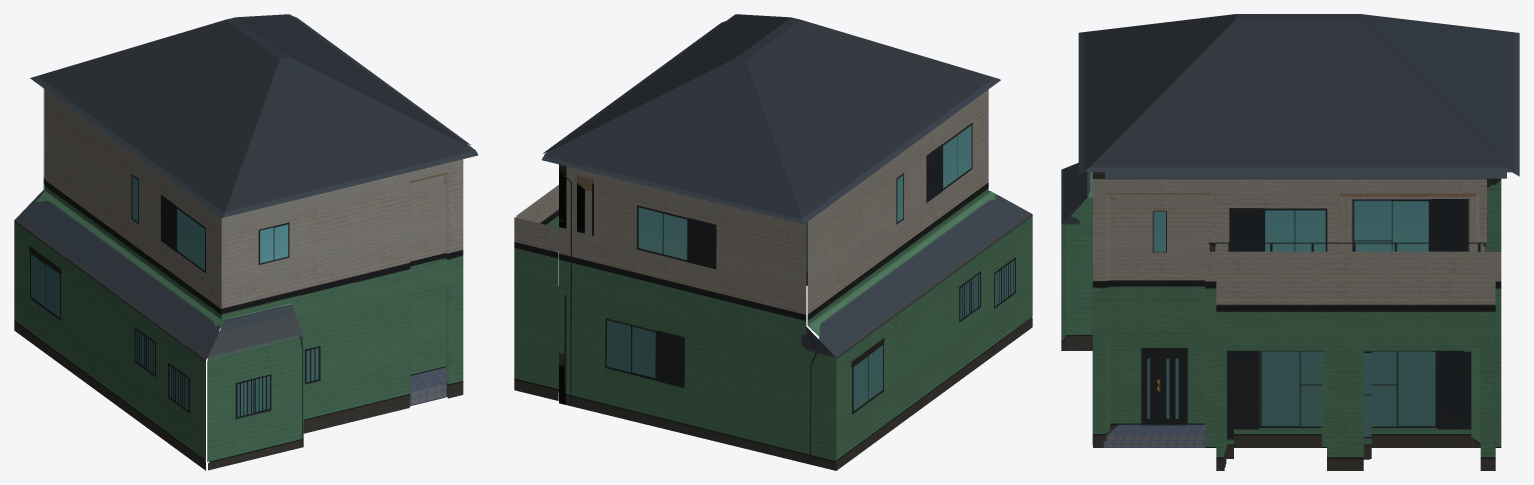
File: House_009_low.fbx
3 renders of one model, left to right at view 1: azimuth 30°, elevation 25°; view 2: azimuth 150°, elevation 25°; view 3: azimuth 270°, elevation 25°, orthographic. The views are drawn at different scales.
Parts seen in each view (by area): view 1: pCube4; view 2: pCube4; view 3: pCube4.
Boxes of the visible parts, x1=… form: pCube4: x1=14, y1=14, x2=478, y2=470; pCube4: x1=514, y1=14, x2=1032, y2=470; pCube4: x1=1061, y1=14, x2=1519, y2=470.
Size of the model in its own units: 8.21 by 7.95 by 9.01.
